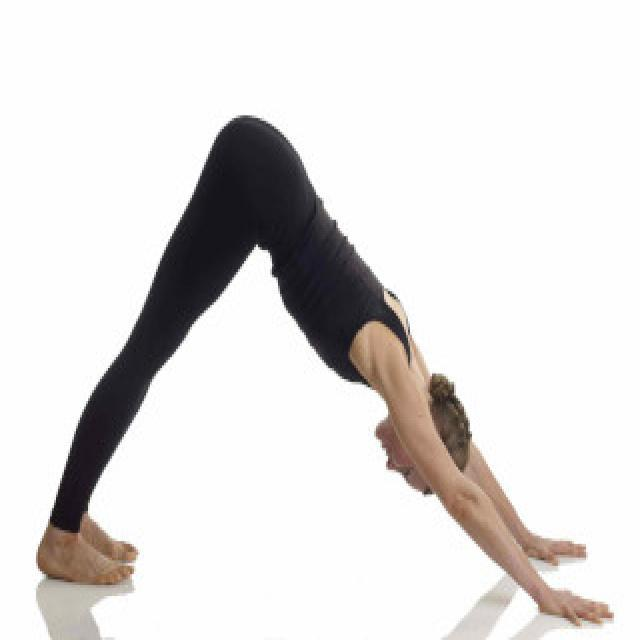yoga-pose downward: (34, 107, 618, 626)
